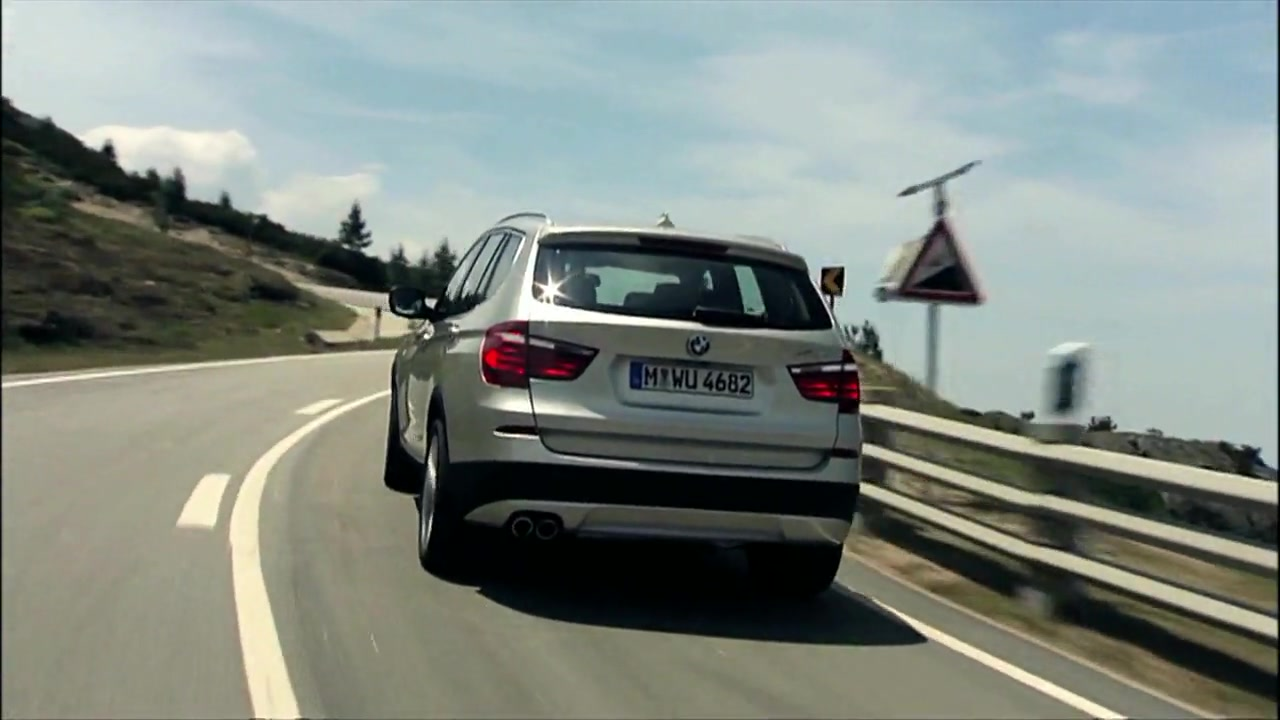car: (384, 203, 870, 586)
